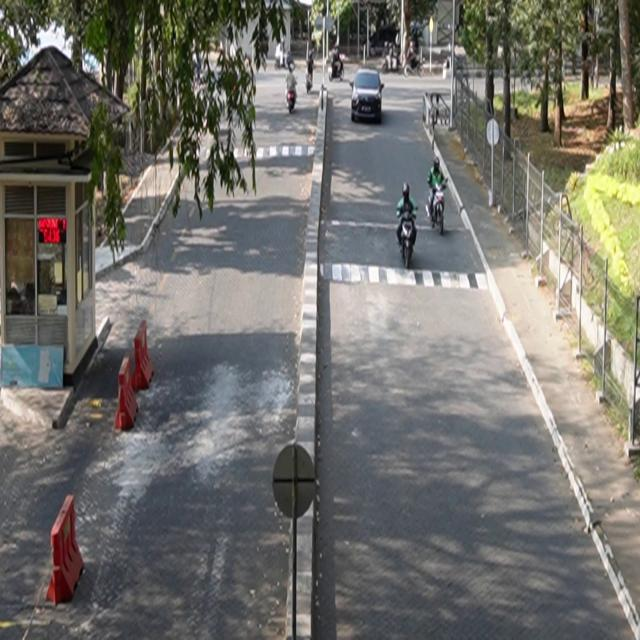car: (351, 68, 386, 124)
